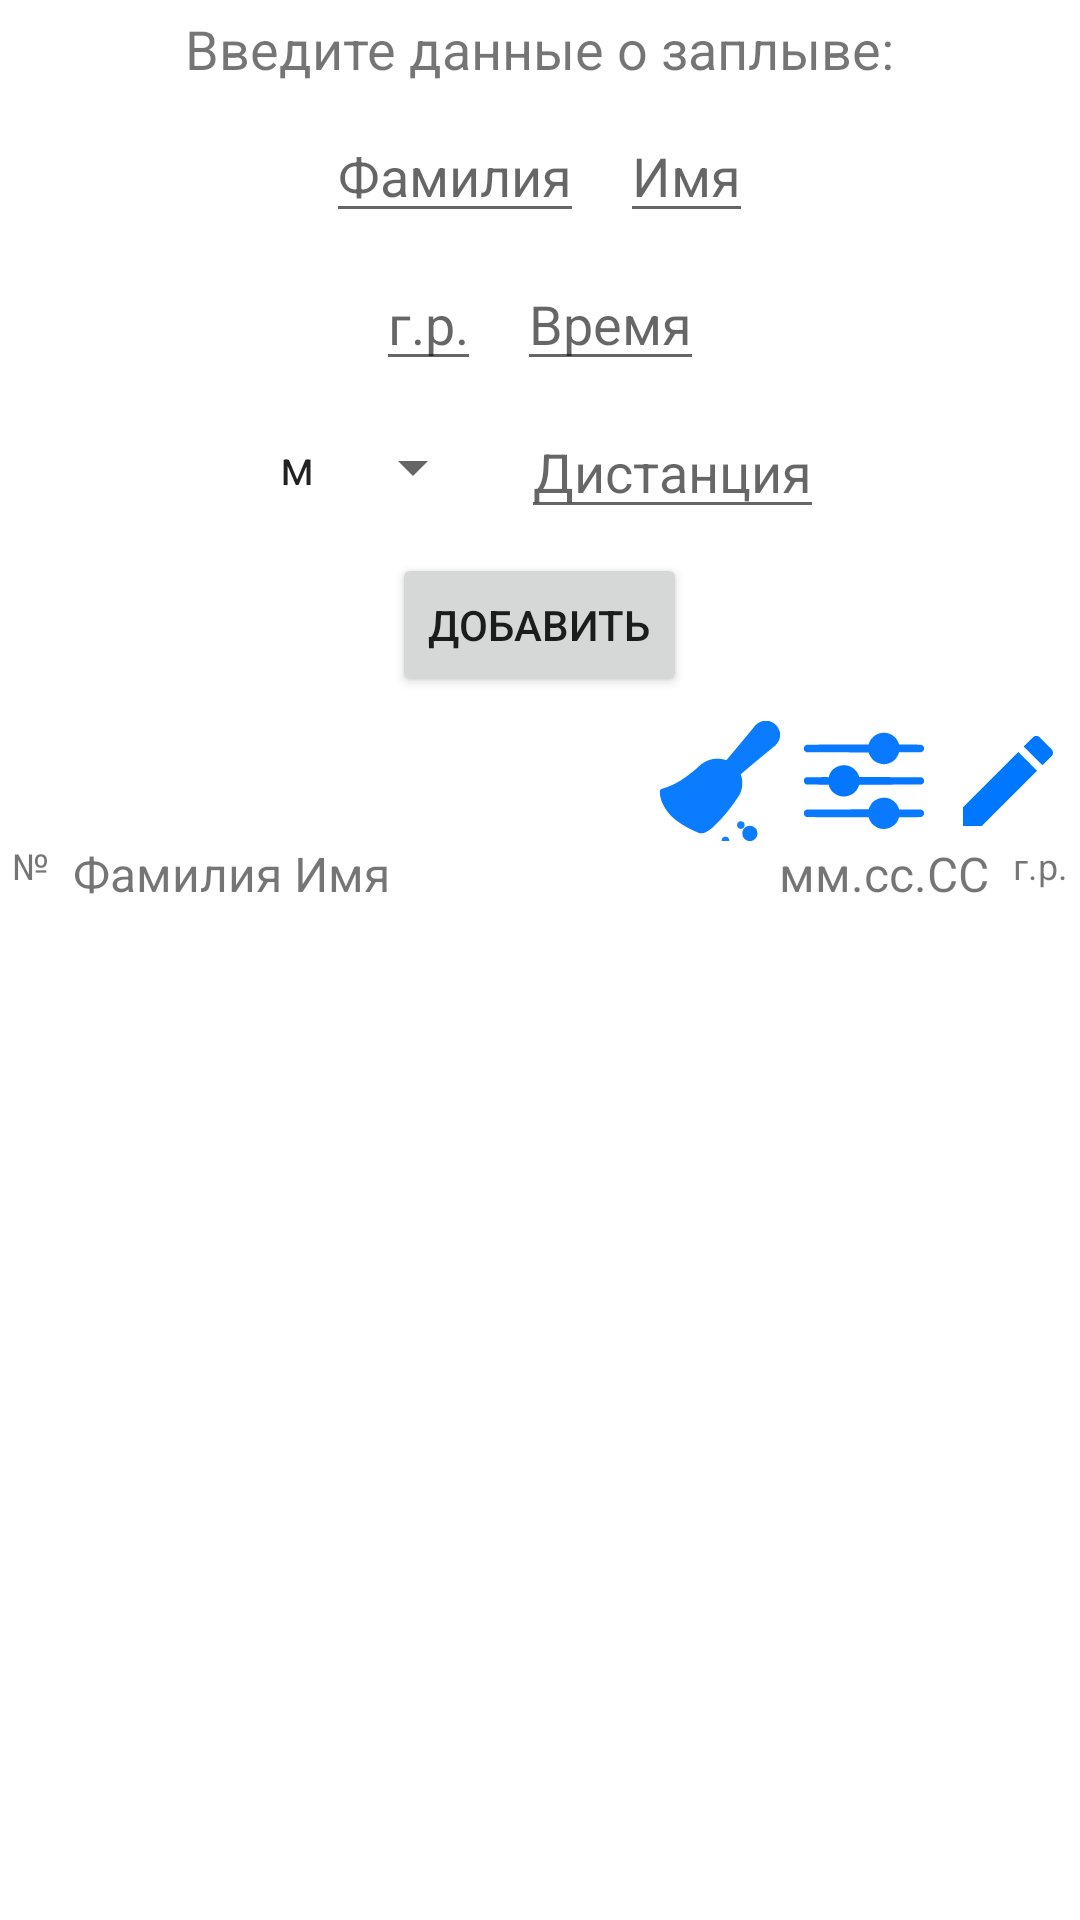

Icon bounding boxes for this 1080 x 1920 phone screenshot, format bbox(x1, y1, x2, y2):
data cleaning: bbox(660, 721, 780, 841)
edit: bbox(963, 736, 1053, 826)
filter: bbox(804, 732, 924, 829)
